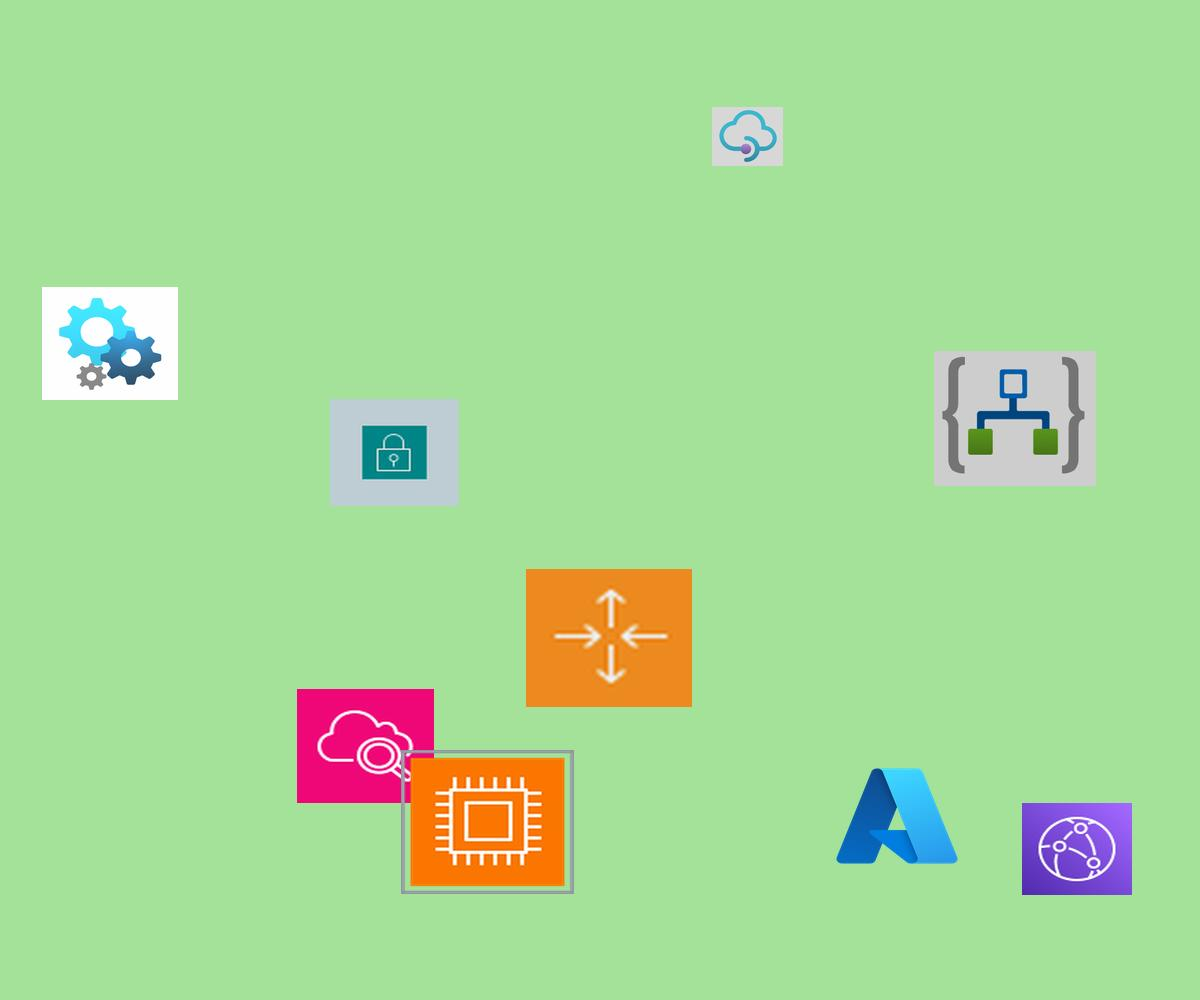AWS-Category_Compute: (401, 750, 574, 894)
AWS-CloudFront: (1022, 803, 1132, 895)
AWS-CloudWatch: (297, 689, 434, 803)
AWS-Private-subnet: (330, 399, 459, 506)
AWS-Scaling-group: (526, 569, 692, 707)
Azure_api: (42, 287, 178, 400)
Azure_api_gateway: (712, 107, 783, 166)
Azure_integration-204-Logic-Apps: (934, 351, 1096, 486)
Azure_services: (831, 761, 963, 871)
